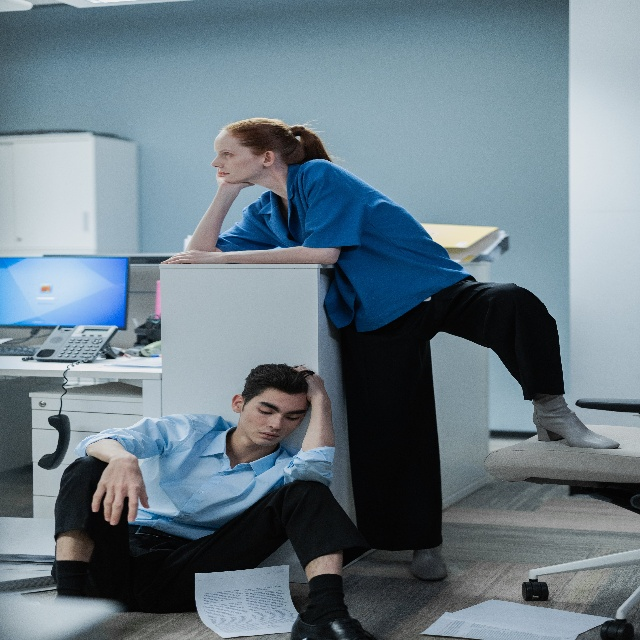Sin_guantes: (90, 456, 150, 526), (295, 364, 331, 411), (161, 248, 222, 266), (215, 168, 255, 191)
